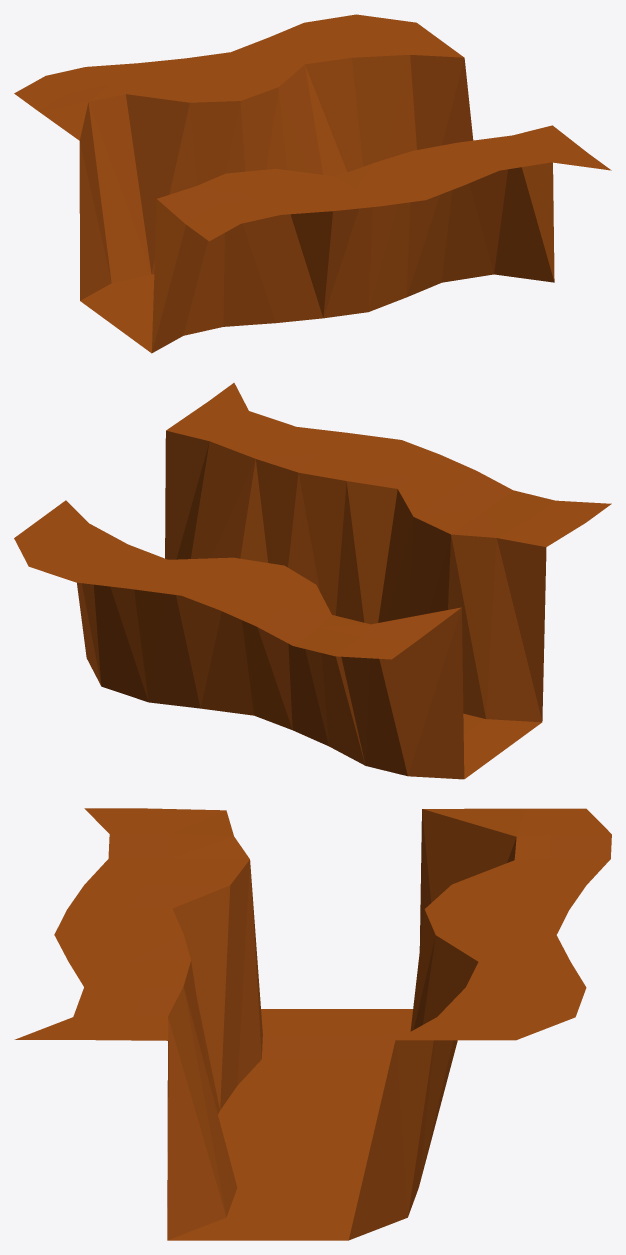
File: canyon_obj.obj
The picture shows the model from 3 angles, top to bottom: view 1: azimuth 30°, elevation 25°; view 2: azimuth 150°, elevation 25°; view 3: azimuth 270°, elevation 25°; orthographic projection. The views are drawn at different scales.
Visible parts, largest first — view 1: Grid_Grid.003; view 2: Grid_Grid.003; view 3: Grid_Grid.003.
Boxes of the visible parts, x1,y1,x2,y2 form: Grid_Grid.003: (14, 14, 611, 353); Grid_Grid.003: (14, 383, 611, 779); Grid_Grid.003: (14, 808, 611, 1240).
Size of the model in its own units: 20.3 by 8.18 by 21.98.
